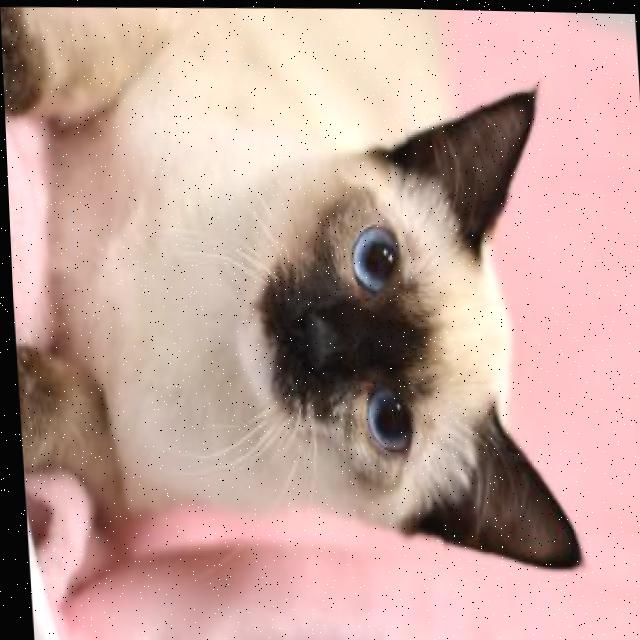Siamese: (0, 0, 588, 584)
